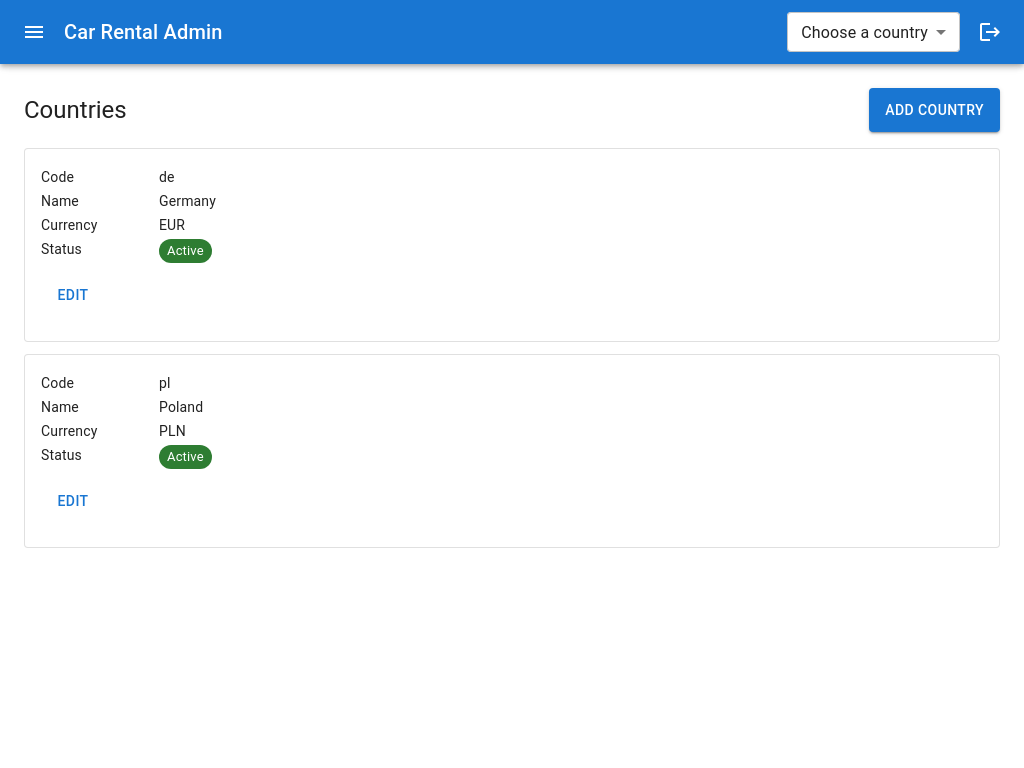
it: On a phone › shows cards instead of a table and a menu button instead of a side bar
Expected: the text "Poland" is shown, [159, 397, 203, 417]
Click the button named "Open navigation".
click(34, 32)  # box [12, 10, 56, 54]
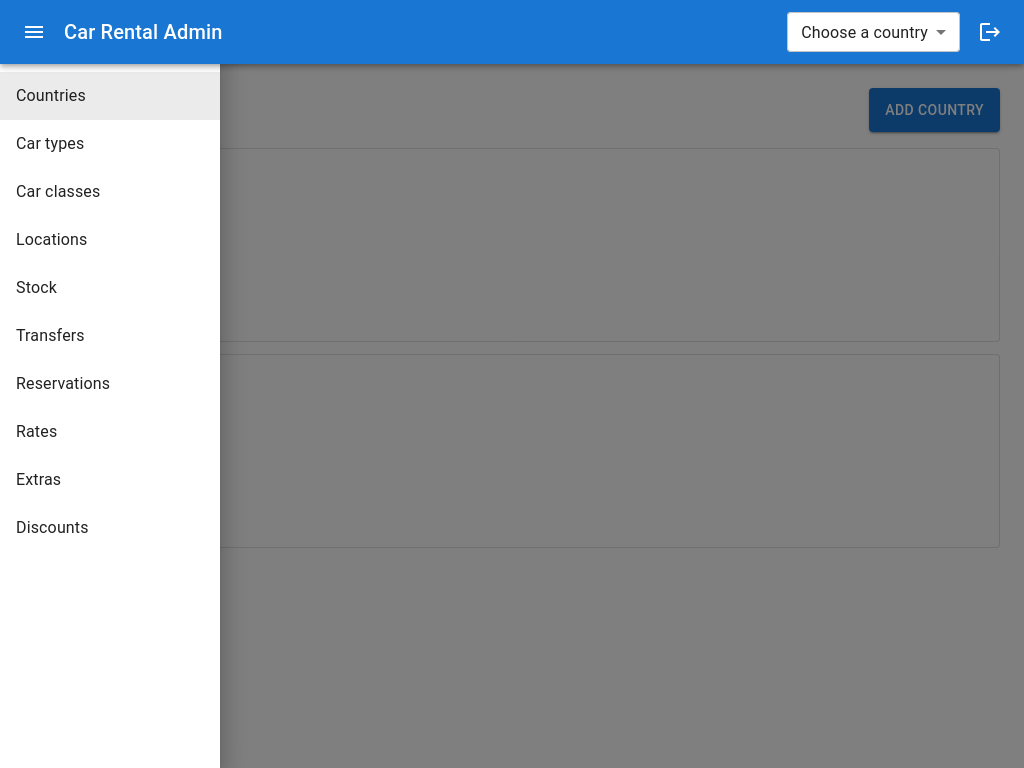
Result: the navigation bar named "Sections" is shown at [0, 64, 220, 560]
